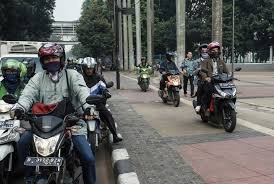motor: (23, 116, 70, 184), (194, 76, 244, 134), (156, 69, 181, 106), (136, 65, 152, 93)
